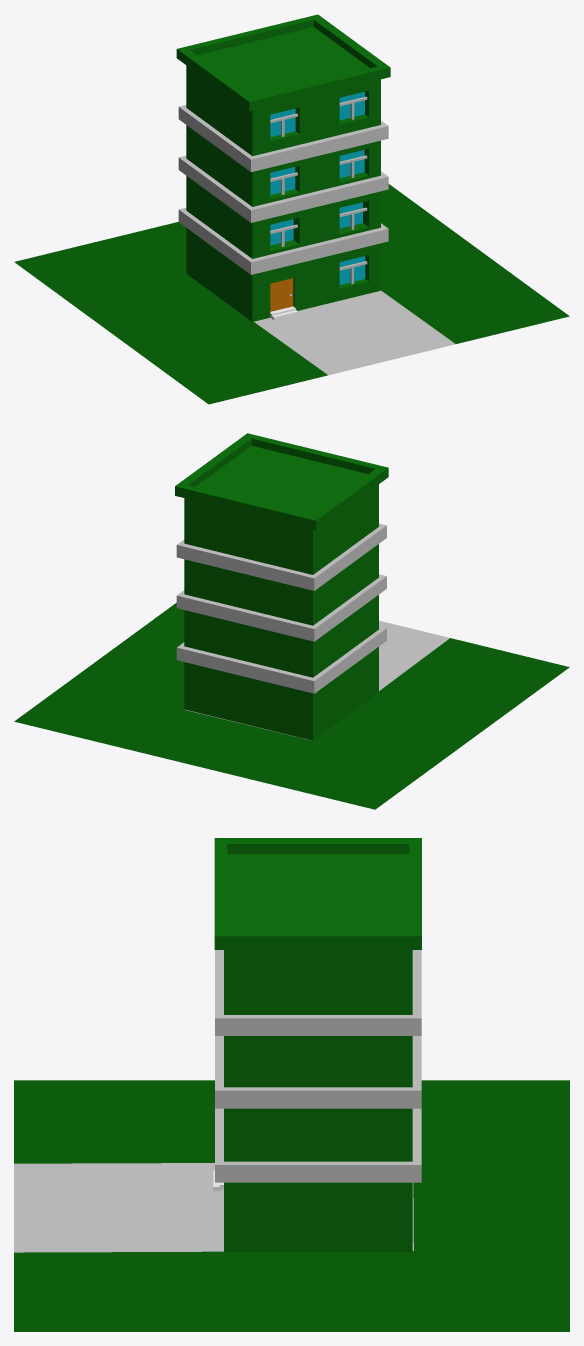
File: house-green.obj
3 renders of one model, top to bottom at view 1: azimuth 30°, elevation 25°; view 2: azimuth 150°, elevation 25°; view 3: azimuth 270°, elevation 25°, orthographic. The views are drawn at different scales.
Visible parts, largest first — view 1: Cube.527_Cube.518, Plane.103, Cube.526_Cube.517, Plane.104, Cube.524_Cube.513, Cube.522_Cube.511, Cube.525_Cube.516; view 2: Cube.527_Cube.518, Plane.103, Cube.526_Cube.517, Plane.104; view 3: Plane.103, Cube.527_Cube.518, Plane.104, Cube.526_Cube.517.
Part boxes in pixels (<box>): Cube.527_Cube.518: <box>176,14,390,321</box>; Plane.103: <box>14,184,569,404</box>; Cube.526_Cube.517: <box>178,105,388,274</box>; Plane.104: <box>254,290,455,375</box>; Cube.524_Cube.513: <box>270,91,365,284</box>; Cube.522_Cube.511: <box>270,96,367,246</box>; Cube.525_Cube.516: <box>270,278,293,311</box>; Cube.527_Cube.518: <box>175,433,388,740</box>; Plane.103: <box>14,603,569,809</box>; Cube.526_Cube.517: <box>176,523,386,693</box>; Plane.104: <box>185,620,449,740</box>; Plane.103: <box>14,1080,569,1331</box>; Cube.527_Cube.518: <box>214,838,421,1251</box>; Plane.104: <box>14,1163,413,1252</box>; Cube.526_Cube.517: <box>215,950,421,1182</box>.
Size of the model in its own units: 23.65 by 14.03 by 22.09.
